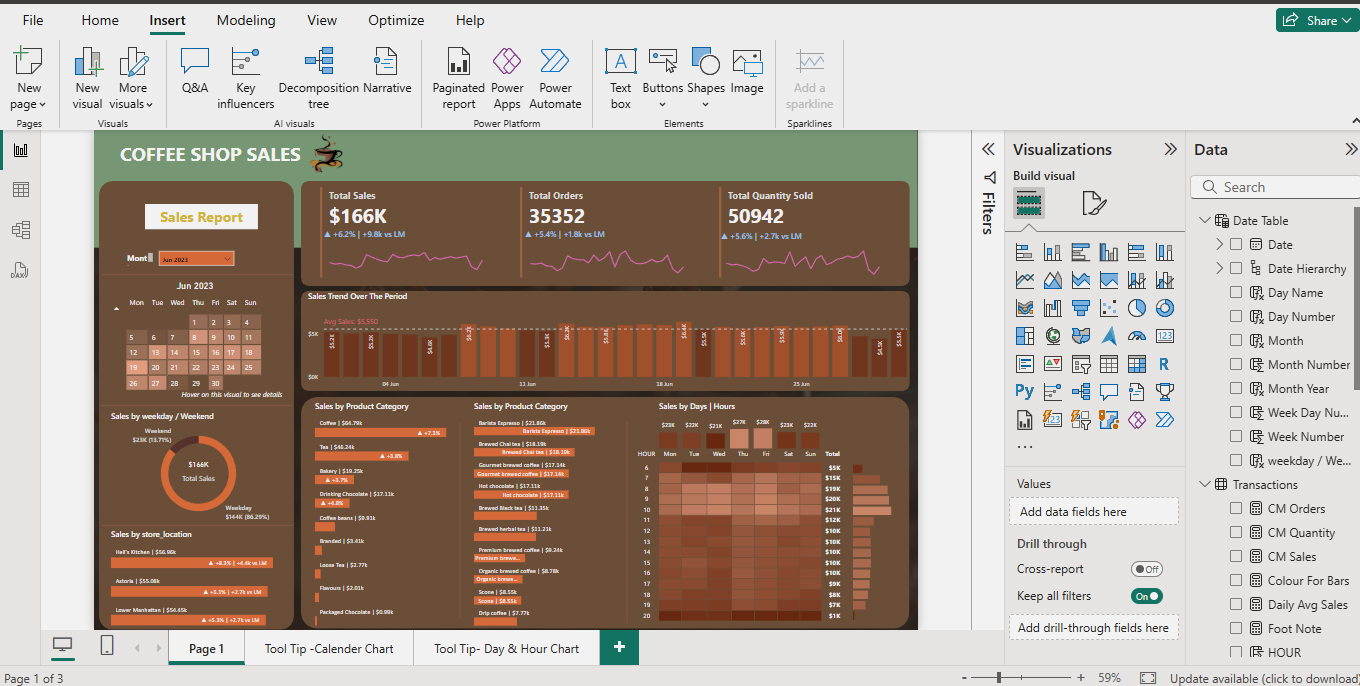

Layout of this report page (visuals, bound fields, positions):
{"tool":"powerbi","page":{"name":"Page 1","canvas":[1400,850],"ordinal":0},"visuals":[{"type":"shape","box":[0,0,1400,200],"z":0},{"type":"shape","box":[8.5,86.7,331.5,763.3],"z":1000},{"type":"shape","box":[351.9,86.7,1035.3,178.5],"z":2000},{"type":"textbox","box":[39.1,11.9,340,52.7],"z":3000},{"type":"cardVisual","fields":{"Data":["Transactions.Total Sales"]},"box":[379.1,91.8,300.9,164.9],"z":4000,"group":"g1"},{"type":"cardVisual","fields":{"Data":["Transactions.Total Orders"]},"box":[719.1,91.8,300.9,164.9],"z":4000,"group":"g2"},{"type":"cardVisual","fields":{"Data":["Transactions.Total Quantity Sold"]},"box":[1057.4,91.8,300.9,164.9],"z":4000,"group":"g3"},{"type":"slicer","fields":{"Values":["Date Table.Month Year"]},"box":[105.4,200.6,137.7,34],"z":4000},{"type":"group","id":"g1","title":"Group 1","box":[379.1,91.8,300.9,164.9],"z":5000},{"type":"group","id":"g2","title":"Group 1","box":[719.1,91.8,300.9,164.9],"z":6000},{"type":"lineChart","fields":{"Category":["Date Table.Date Hierarchy.Date"],"Y":["Transactions.Total Sales"]},"box":[385.1,167.8,289,81.6],"z":6000,"group":"g1"},{"type":"lineChart","fields":{"Category":["Date Table.Date Hierarchy.Date"],"Y":["Transactions.Total Orders"]},"box":[727.1,168.5,289,81.6],"z":6000,"group":"g2"},{"type":"lineChart","fields":{"Category":["Date Table.Date Hierarchy.Date"],"Y":["Transactions.Total Quantity Sold"]},"box":[1060.5,170.9,289,81.6],"z":6000,"group":"g3"},{"type":"group","id":"g3","title":"Group 1","box":[1057.4,91.8,300.9,164.9],"z":7000},{"type":"pivotTable","fields":{"Rows":["Date Table.Week Number"],"Columns":["Date Table.Day Name"],"Values":["Min(Date Table.Day Number)"]},"box":[22.1,273.7,304.3,190.4],"z":8000},{"type":"card","fields":{"Values":["Min(Date Table.Month Year)"]},"box":[105.4,246.5,132.6,37.4],"z":9000},{"type":"card","fields":{"Values":["Transactions.Foot Note"]},"box":[136,436.9,197.2,30.6],"z":10000},{"type":"shape","box":[11.9,453.9,326.4,28.9],"z":11000},{"type":"shape","box":[13.6,231.2,326.4,28.9],"z":12000},{"type":"donutChart","title":"Sales by weekday / Weekend","fields":{"Category":["Date Table.weekday / Weekend"],"Y":["Transactions.Total Sales"]},"box":[23.8,477.7,307.7,195.5],"z":13000},{"type":"card","fields":{"Values":["Transactions.Total Sales"]},"box":[132.6,555.9,90.1,45.9],"z":14000},{"type":"shape","box":[13.6,657.9,326.4,28.9],"z":15000},{"type":"clusteredBarChart","title":"Sales by store_location","fields":{"Category":["Transactions.store_location"],"Y":["Transactions.Placeholder","Transactions.Total Sales"]},"box":[23.8,678.3,309.4,171.7],"z":16000},{"type":"shape","box":[351.9,273.7,1035.3,170],"z":17000},{"type":"columnChart","title":"Sales Trend Over The Period","fields":{"Category":["Transactions.transaction_date"],"Y":["Transactions.Total Sales"]},"box":[358.7,273.7,1028.5,173.4],"z":18000},{"type":"shape","box":[351.9,453.9,1035.3,394.4],"z":19000},{"type":"clusteredBarChart","title":"Sales by Product Category","fields":{"Y":["Transactions.Placeholder","Transactions.Total Sales"],"Category":["Transactions.product_category"]},"box":[370.6,460.7,260.1,387.6],"z":20000},{"type":"shape","box":[613.7,496.4,17,331.5],"z":21000},{"type":"clusteredBarChart","title":"Sales by Product Category","fields":{"Y":["Transactions.Placeholder","Transactions.Total Sales"],"Category":["Transactions.product_type"]},"box":[640.9,460.7,244.8,387.6],"z":22000},{"type":"shape","box":[897.6,496.4,17,341.7],"z":23000},{"type":"pivotTable","fields":{"Rows":["Transactions.HOUR"],"Columns":["Date Table.Day Name"],"Values":["Transactions.Total Sales"]},"box":[914.6,537.2,370.6,311.1],"z":24000},{"type":"clusteredBarChart","fields":{"Category":["Transactions.HOUR"],"Y":["Transactions.Total Sales"]},"box":[1285.2,555.9,102,282.2],"z":25000},{"type":"columnChart","title":"Sales by Days | Hours","fields":{"Y":["Transactions.Total Sales"],"Category":["Date Table.Day Name"]},"box":[955.4,460.7,283.9,86.7],"z":26000},{"type":"textbox","box":[51,204,54.4,30.6],"z":27000},{"type":"image","box":[333.2,1.7,122.4,74.8],"z":28000},{"type":"textbox","box":[86.7,125.8,192.1,42.5],"z":29000}]}

Visuals, with their boxes on the page's 1400x850 design canvas (x1, y1, x2, y2). These are canvas units, not pixel positions in the 1360x686 screenshot, which may show the page scaled, cropped or inside an application window:
shape: [left=0, top=0, right=1400, bottom=200]
shape: [left=8, top=87, right=340, bottom=850]
shape: [left=352, top=87, right=1387, bottom=265]
textbox: [left=39, top=12, right=379, bottom=65]
cardVisual - Transactions.Total Sales: [left=379, top=92, right=680, bottom=257]
cardVisual - Transactions.Total Orders: [left=719, top=92, right=1020, bottom=257]
cardVisual - Transactions.Total Quantity Sold: [left=1057, top=92, right=1358, bottom=257]
slicer - Date Table.Month Year: [left=105, top=201, right=243, bottom=235]
"Group 1" group: [left=379, top=92, right=680, bottom=257]
"Group 1" group: [left=719, top=92, right=1020, bottom=257]
lineChart - Date Table.Date Hierarchy.Date x Transactions.Total Sales: [left=385, top=168, right=674, bottom=249]
lineChart - Date Table.Date Hierarchy.Date x Transactions.Total Orders: [left=727, top=168, right=1016, bottom=250]
lineChart - Date Table.Date Hierarchy.Date x Transactions.Total Quantity Sold: [left=1060, top=171, right=1350, bottom=252]
"Group 1" group: [left=1057, top=92, right=1358, bottom=257]
pivotTable - Date Table.Week Number x Date Table.Day Name: [left=22, top=274, right=326, bottom=464]
card - Min(Date Table.Month Year): [left=105, top=246, right=238, bottom=284]
card - Transactions.Foot Note: [left=136, top=437, right=333, bottom=468]
shape: [left=12, top=454, right=338, bottom=483]
shape: [left=14, top=231, right=340, bottom=260]
"Sales by weekday / Weekend" donutChart: [left=24, top=478, right=332, bottom=673]
card - Transactions.Total Sales: [left=133, top=556, right=223, bottom=602]
shape: [left=14, top=658, right=340, bottom=687]
"Sales by store_location" clusteredBarChart: [left=24, top=678, right=333, bottom=850]
shape: [left=352, top=274, right=1387, bottom=444]
"Sales Trend Over The Period" columnChart: [left=359, top=274, right=1387, bottom=447]
shape: [left=352, top=454, right=1387, bottom=848]
"Sales by Product Category" clusteredBarChart: [left=371, top=461, right=631, bottom=848]
shape: [left=614, top=496, right=631, bottom=828]
"Sales by Product Category" clusteredBarChart: [left=641, top=461, right=886, bottom=848]
shape: [left=898, top=496, right=915, bottom=838]
pivotTable - Transactions.HOUR x Date Table.Day Name: [left=915, top=537, right=1285, bottom=848]
clusteredBarChart - Transactions.HOUR x Transactions.Total Sales: [left=1285, top=556, right=1387, bottom=838]
"Sales by Days | Hours" columnChart: [left=955, top=461, right=1239, bottom=547]
textbox: [left=51, top=204, right=105, bottom=235]
image: [left=333, top=2, right=456, bottom=76]
textbox: [left=87, top=126, right=279, bottom=168]
